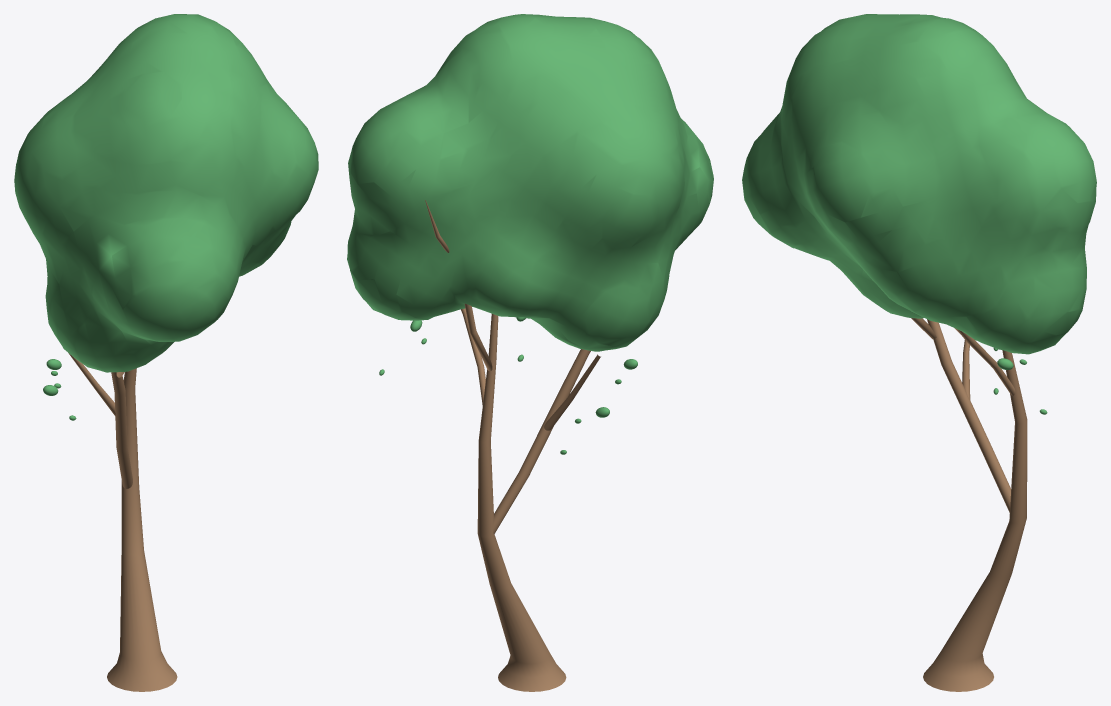
The model's file is Cartoon_Trees_Pack_Tree_11.glb.
3 renders of one model, left to right at view 1: azimuth 30°, elevation 25°; view 2: azimuth 150°, elevation 25°; view 3: azimuth 270°, elevation 25°, orthographic. The views are drawn at different scales.
Parts seen in each view (by area): view 1: 02_Leaves, 01_Trunk; view 2: 02_Leaves, 01_Trunk; view 3: 02_Leaves, 01_Trunk.
Part boxes in pixels (x1,y1,x2,y2): 02_Leaves: [14, 14, 318, 420]; 01_Trunk: [68, 353, 177, 691]; 02_Leaves: [347, 14, 713, 454]; 01_Trunk: [425, 200, 600, 691]; 02_Leaves: [742, 14, 1096, 414]; 01_Trunk: [911, 318, 1027, 691].
Size of the model in its own units: 4.46 by 10 by 4.83.
